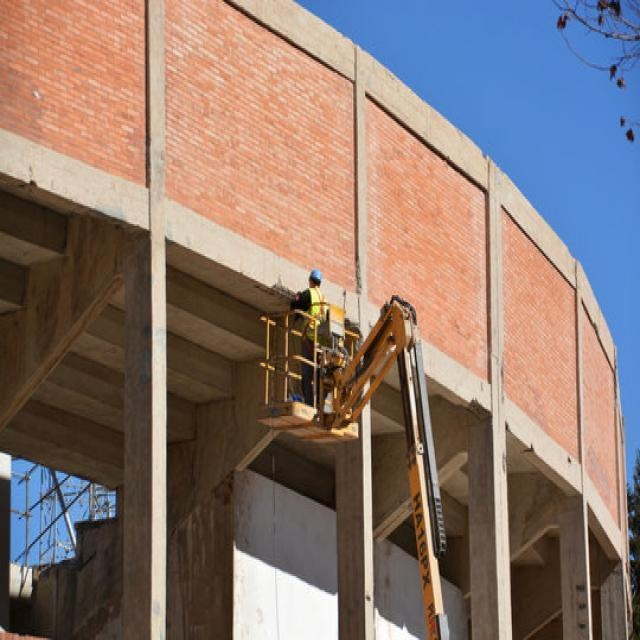Arnes_seguridad: (306, 287, 326, 352)
